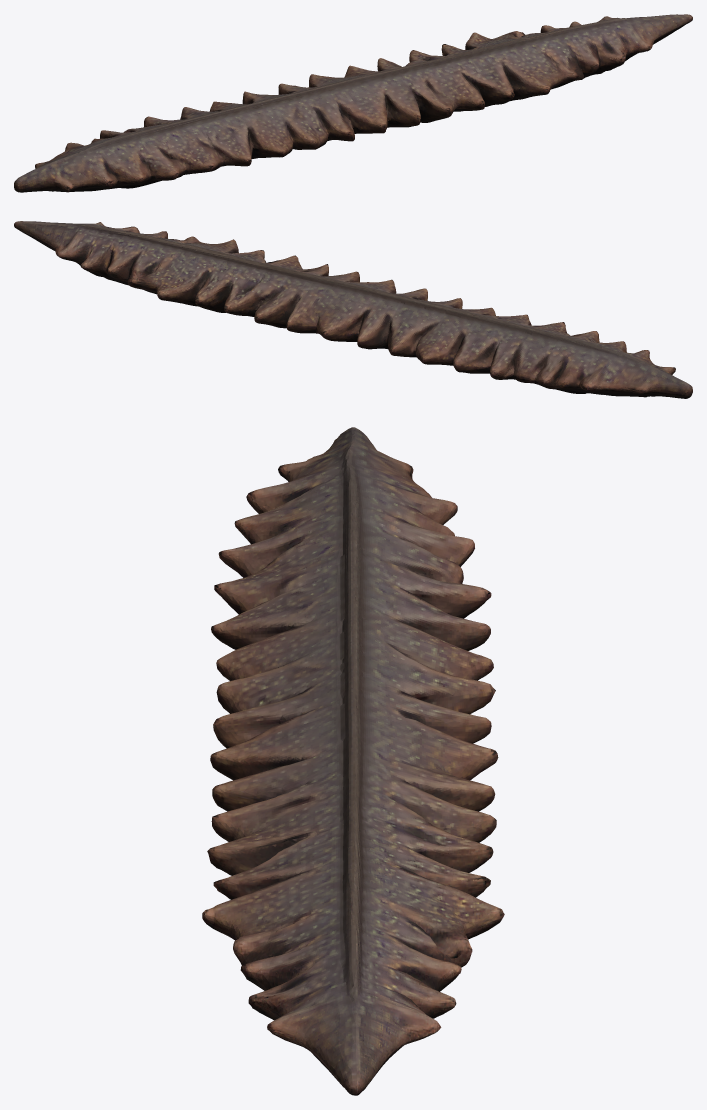
3 renders of one model, top to bottom at view 1: azimuth 30°, elevation 25°; view 2: azimuth 150°, elevation 25°; view 3: azimuth 270°, elevation 25°, orthographic. The views are drawn at different scales.
Parts seen in each view (by area): view 1: world; view 2: world; view 3: world.
Boxes of the visible parts, box(x1,y1,x2,y2) form: world: box(14, 14, 692, 192); world: box(14, 221, 692, 398); world: box(202, 427, 504, 1095).
Bounding box in the file's own units: 1 × 0.0815 × 0.1937.
1 material, 1 textured.
